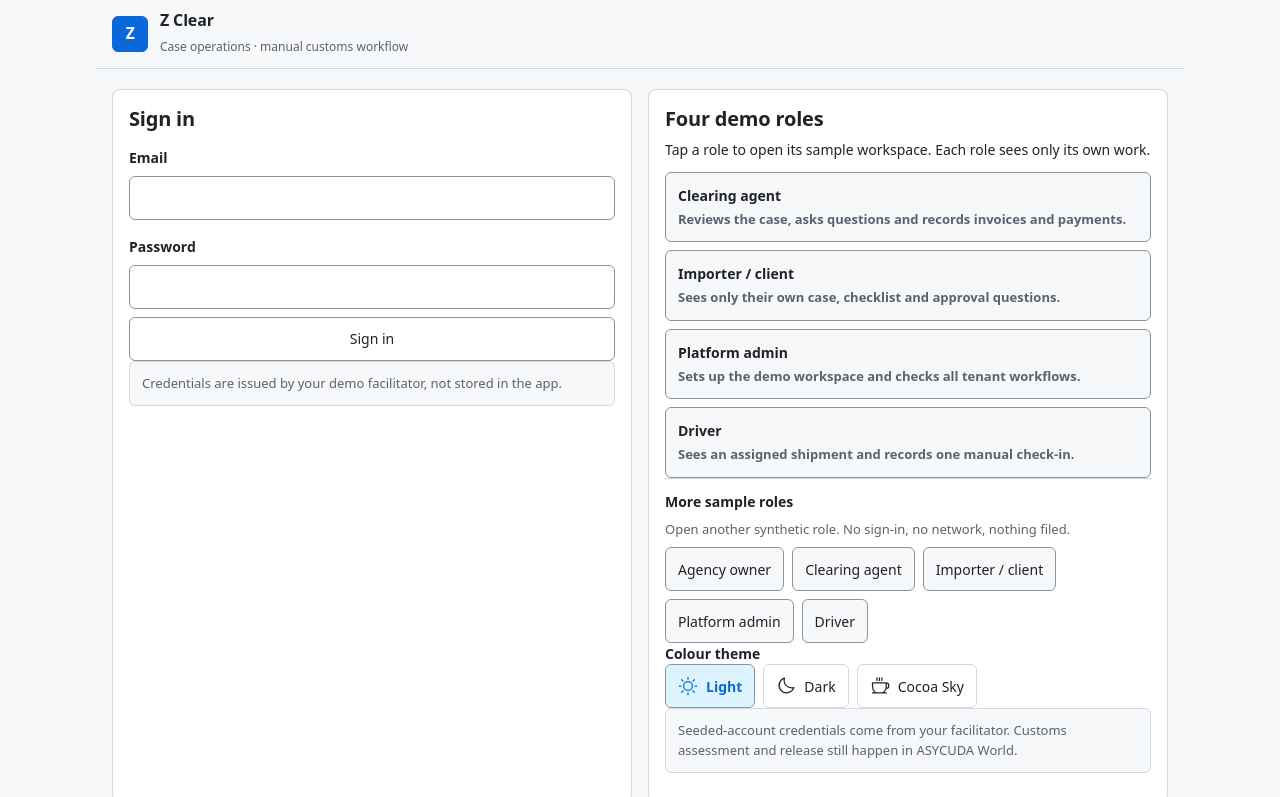
Test: App › lets agency staff record an off-platform payment against the issued invoice
Type "agent@example.com" into the field labelled "Email" at x=372, y=198, box [129, 176, 615, 220]
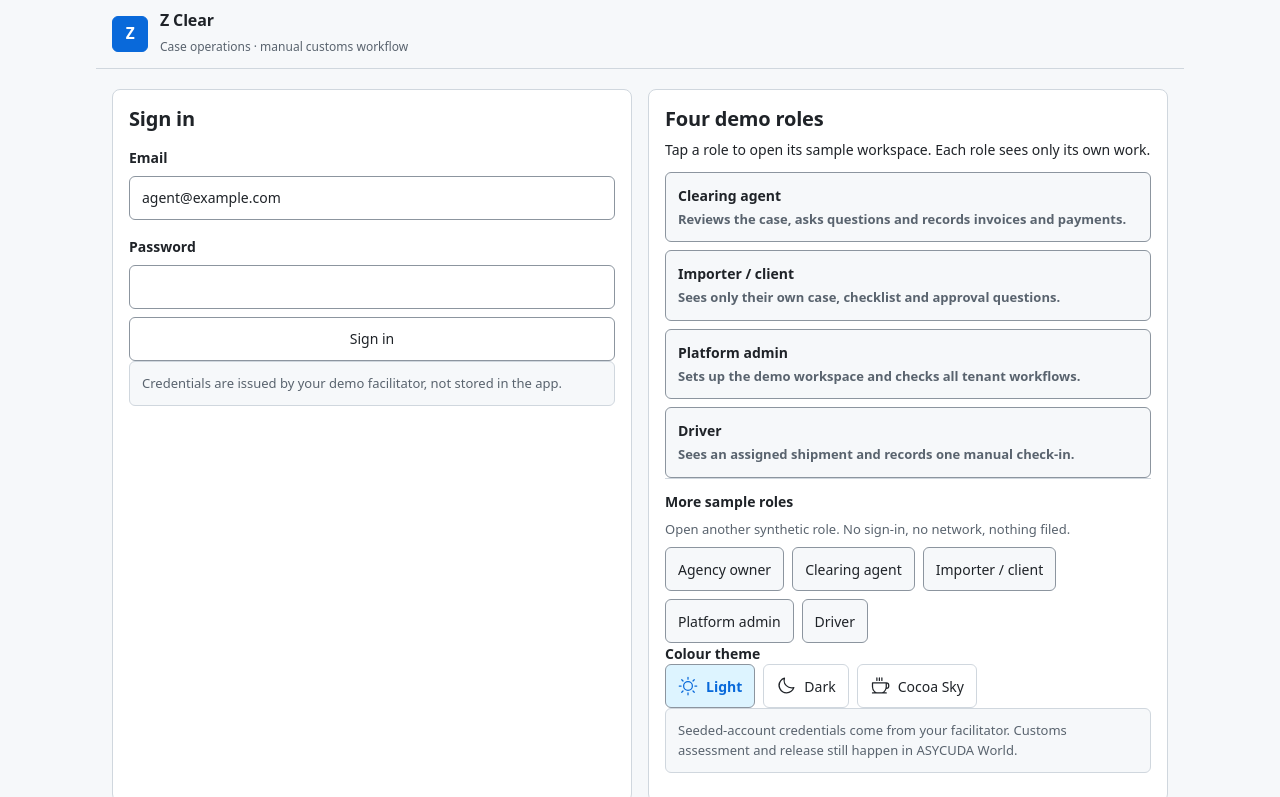
Type "demo-password" into the password field labelled "Password" at x=372, y=287, box [129, 265, 615, 309]
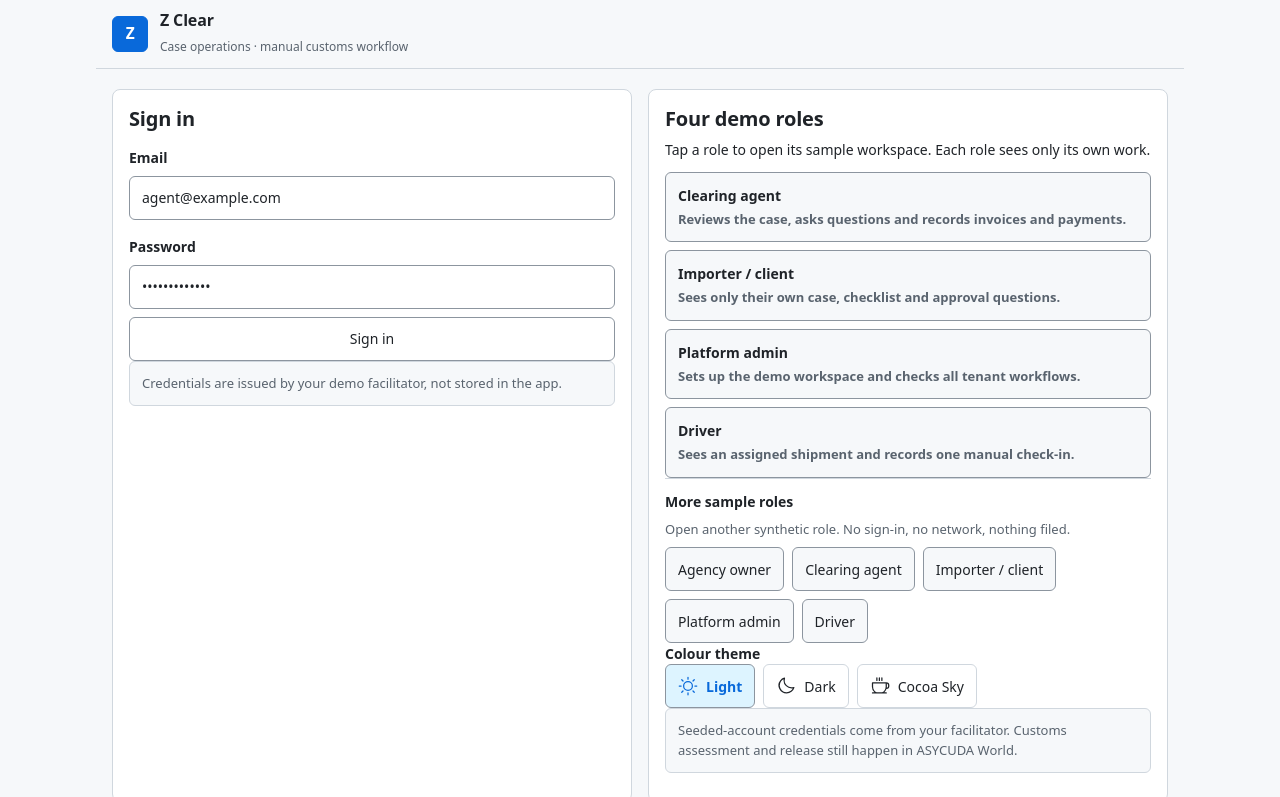
Click the button "Sign in" at x=372, y=339, box [129, 317, 615, 361]
(page scrolled)
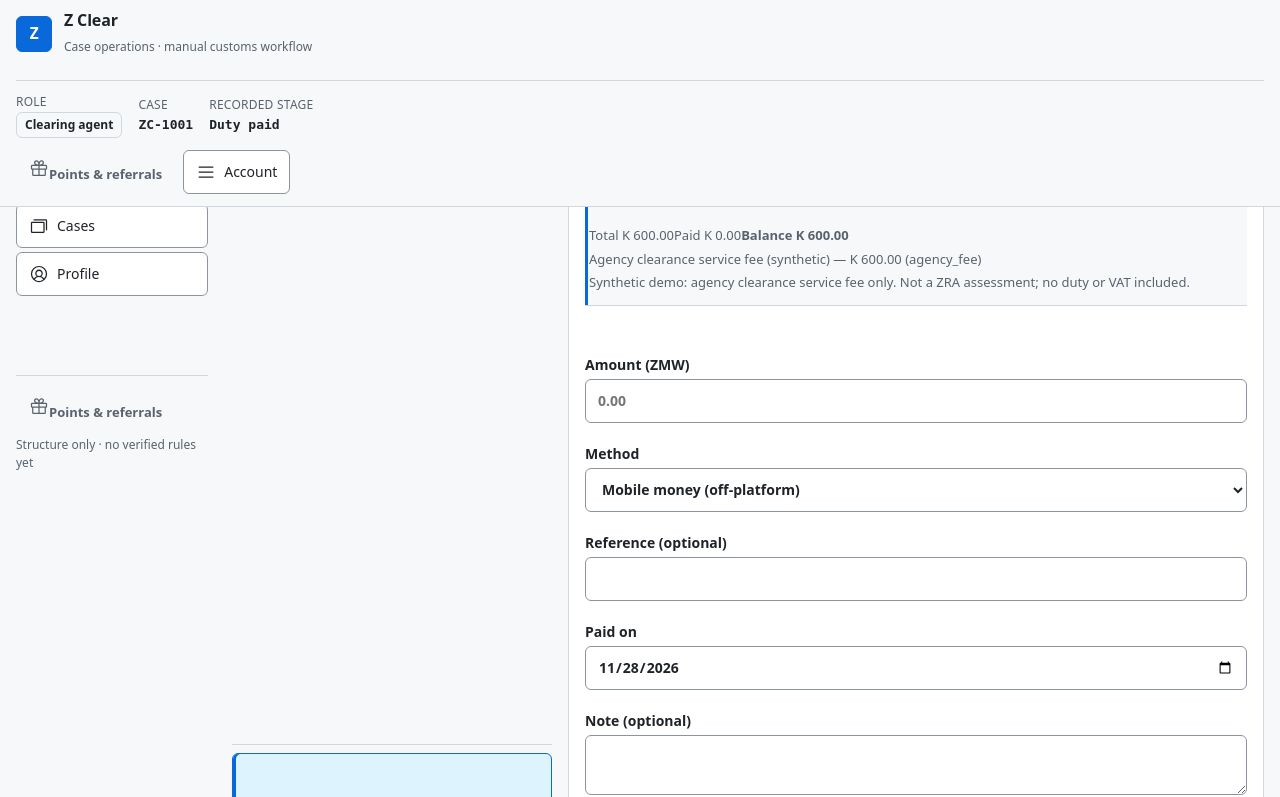
Now the list item with test id "invoice-row" shows "INV-0001", box [589, 178, 699, 222]
Now the text with test id "payment-notice" shows "not a ZRA assessment", box [598, 59, 1222, 116]
Type "600.00" into the field named "Payment amount in ZMW" at x=916, y=401, box [585, 379, 1247, 423]
(page scrolled)
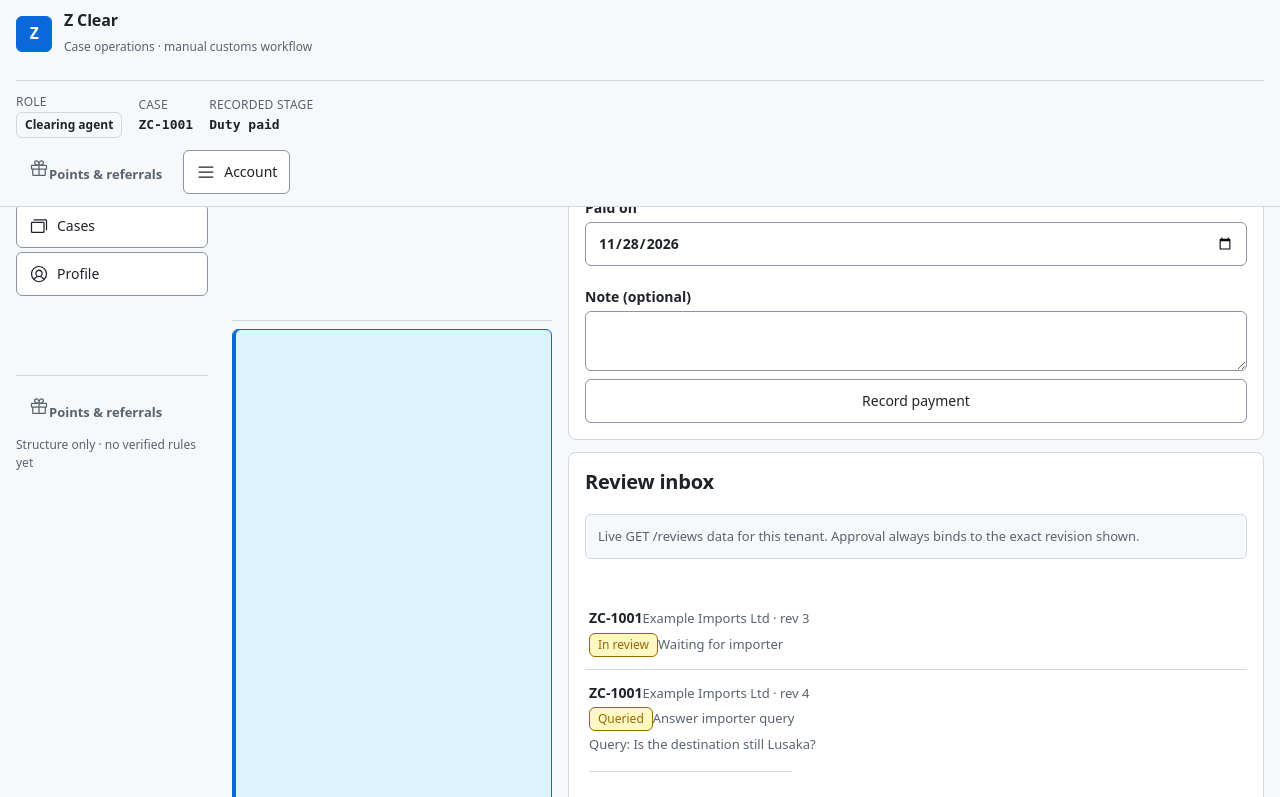
Click the button "Record payment" at x=916, y=401, box [585, 379, 1247, 423]
(page scrolled)
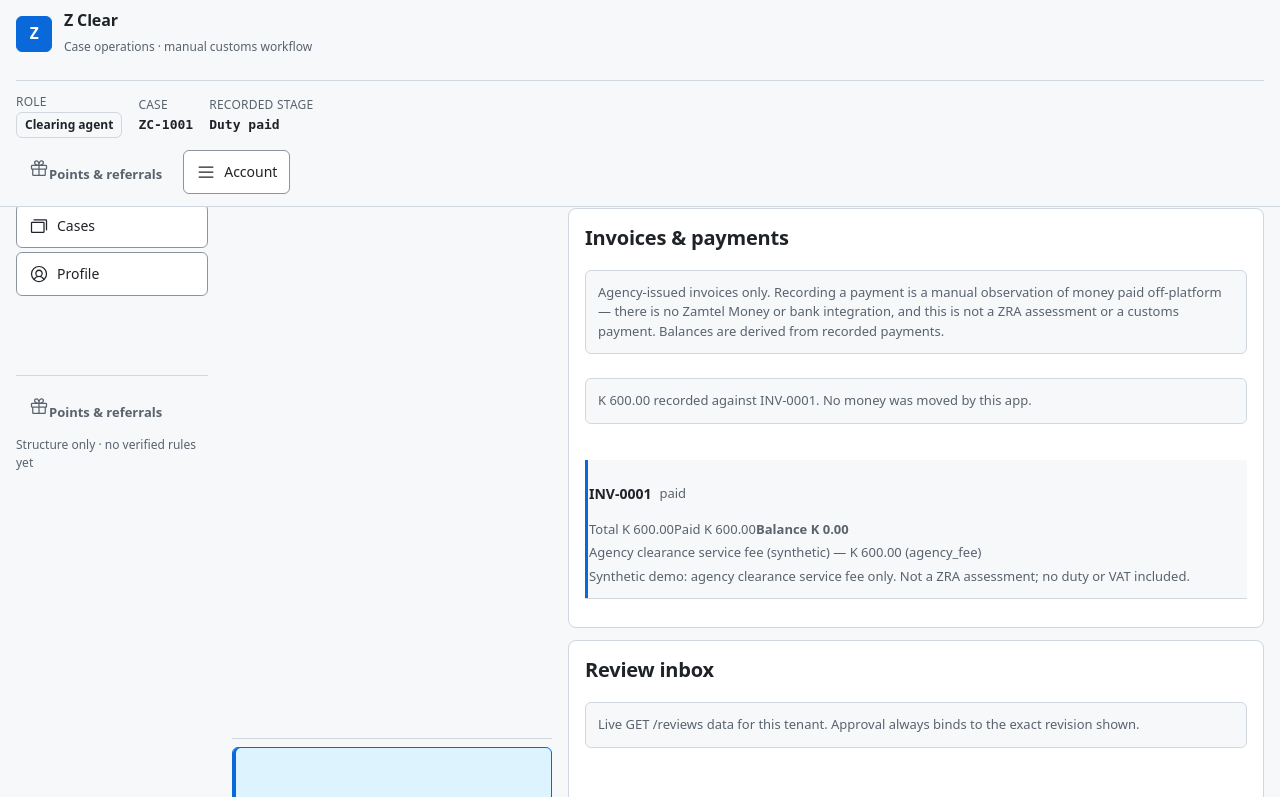
Now the message with test id "payment-confirmation" shows "No money was moved by this app", box [598, 391, 1032, 409]
